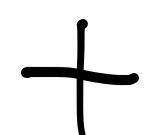plus: (21, 18, 138, 135)
